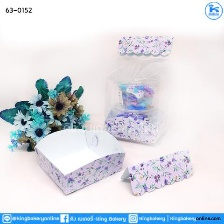snack: (98, 28, 181, 150)
